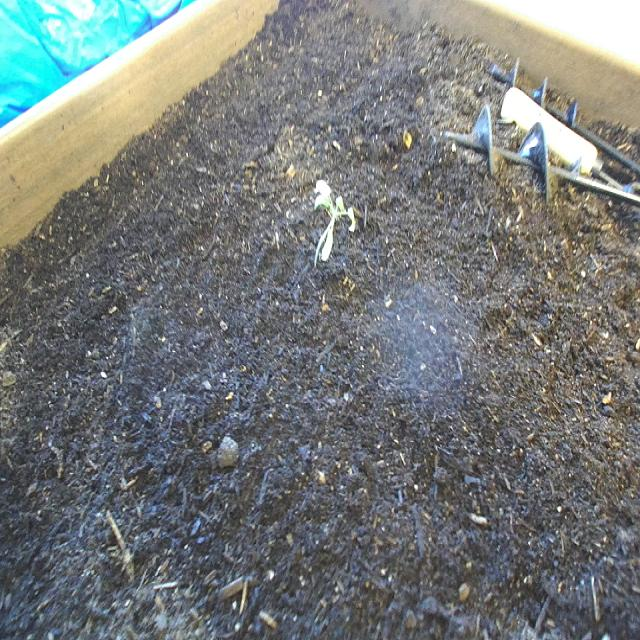Unhealthy: (305, 173, 360, 274)
